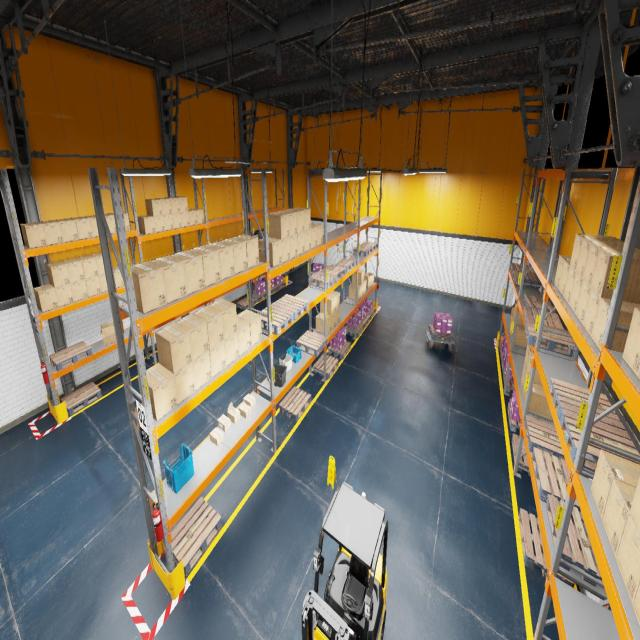box: (590, 450, 640, 520), (591, 248, 640, 304), (591, 297, 640, 352), (602, 479, 636, 558), (583, 243, 640, 287), (138, 363, 177, 421), (616, 514, 640, 605), (570, 233, 623, 272), (576, 238, 624, 279), (155, 322, 192, 373), (148, 256, 187, 304), (131, 262, 167, 314), (174, 313, 209, 361), (168, 250, 204, 295), (187, 246, 221, 287), (192, 306, 224, 349), (622, 308, 640, 378), (203, 242, 235, 280), (208, 299, 238, 339), (524, 383, 552, 422), (218, 238, 247, 274), (236, 309, 262, 346), (231, 235, 259, 268), (174, 362, 195, 405), (583, 288, 600, 337), (192, 351, 212, 390), (258, 237, 282, 267), (20, 222, 47, 248), (34, 284, 58, 312), (629, 477, 640, 538), (38, 220, 64, 245), (209, 340, 226, 378), (46, 261, 70, 287), (576, 280, 590, 324), (268, 212, 289, 240), (554, 255, 571, 289), (61, 258, 85, 282), (55, 218, 79, 242), (569, 273, 583, 314), (276, 210, 297, 237), (237, 317, 251, 356), (526, 352, 542, 386), (70, 217, 93, 240), (224, 331, 239, 366), (284, 208, 304, 234), (76, 255, 98, 278), (564, 266, 575, 305), (55, 284, 74, 306), (559, 260, 570, 297), (292, 208, 310, 230), (71, 279, 88, 302), (512, 324, 527, 349), (101, 321, 116, 346), (316, 312, 331, 336), (85, 275, 101, 297), (112, 212, 130, 231), (138, 215, 156, 234), (632, 584, 640, 626), (320, 294, 336, 315), (145, 198, 163, 216), (90, 252, 104, 275), (85, 215, 99, 237), (227, 401, 240, 423), (512, 303, 524, 325), (311, 223, 323, 245), (510, 319, 523, 339), (164, 197, 180, 213), (113, 265, 124, 288), (217, 414, 231, 432), (210, 427, 223, 446), (157, 198, 172, 214), (281, 237, 290, 263), (524, 344, 532, 372), (174, 196, 188, 212), (329, 290, 340, 310), (105, 214, 116, 234), (348, 284, 361, 300), (191, 208, 204, 224), (243, 393, 256, 408), (239, 402, 251, 418), (352, 269, 364, 285), (353, 282, 364, 298), (154, 215, 164, 232), (520, 364, 526, 392), (290, 234, 297, 258), (99, 274, 108, 292), (304, 229, 311, 252), (172, 212, 182, 228), (163, 214, 173, 230), (364, 272, 374, 287), (180, 212, 190, 227), (188, 209, 197, 225), (298, 232, 304, 255), (311, 226, 317, 248), (522, 373, 526, 401), (509, 314, 513, 333), (510, 304, 514, 322), (336, 308, 340, 326), (332, 312, 336, 330), (364, 280, 366, 294), (639, 375, 640, 379)
forklift: (302, 480, 388, 640)
pallets: (546, 494, 602, 586), (560, 408, 640, 472), (519, 508, 574, 587), (171, 496, 221, 576), (549, 378, 625, 430), (532, 448, 582, 512), (525, 320, 575, 357), (524, 415, 564, 460), (61, 382, 101, 416), (49, 341, 92, 371), (279, 386, 311, 422), (258, 304, 294, 334), (272, 294, 308, 321), (523, 306, 564, 329), (512, 433, 530, 477), (296, 331, 327, 356), (523, 294, 556, 315), (313, 353, 339, 379), (512, 270, 541, 288), (312, 271, 338, 289), (507, 402, 521, 432), (320, 264, 346, 280), (328, 341, 351, 359), (429, 325, 453, 341), (510, 262, 535, 275), (346, 322, 364, 338), (335, 258, 355, 272), (503, 369, 515, 392), (236, 297, 255, 310), (353, 245, 372, 256), (360, 241, 378, 251), (360, 314, 370, 328), (366, 306, 376, 320), (252, 292, 266, 302), (274, 281, 285, 290), (265, 286, 277, 294), (501, 355, 505, 374), (199, 298, 211, 304), (500, 343, 503, 360), (258, 231, 264, 237)
